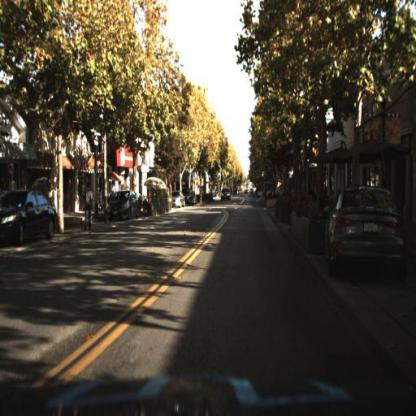car: (323, 184, 404, 274), (2, 190, 62, 248), (103, 190, 141, 224), (169, 191, 189, 212), (170, 191, 188, 211), (183, 187, 193, 210), (220, 186, 232, 205), (220, 188, 231, 203)
pedestrian: (83, 183, 95, 238)
